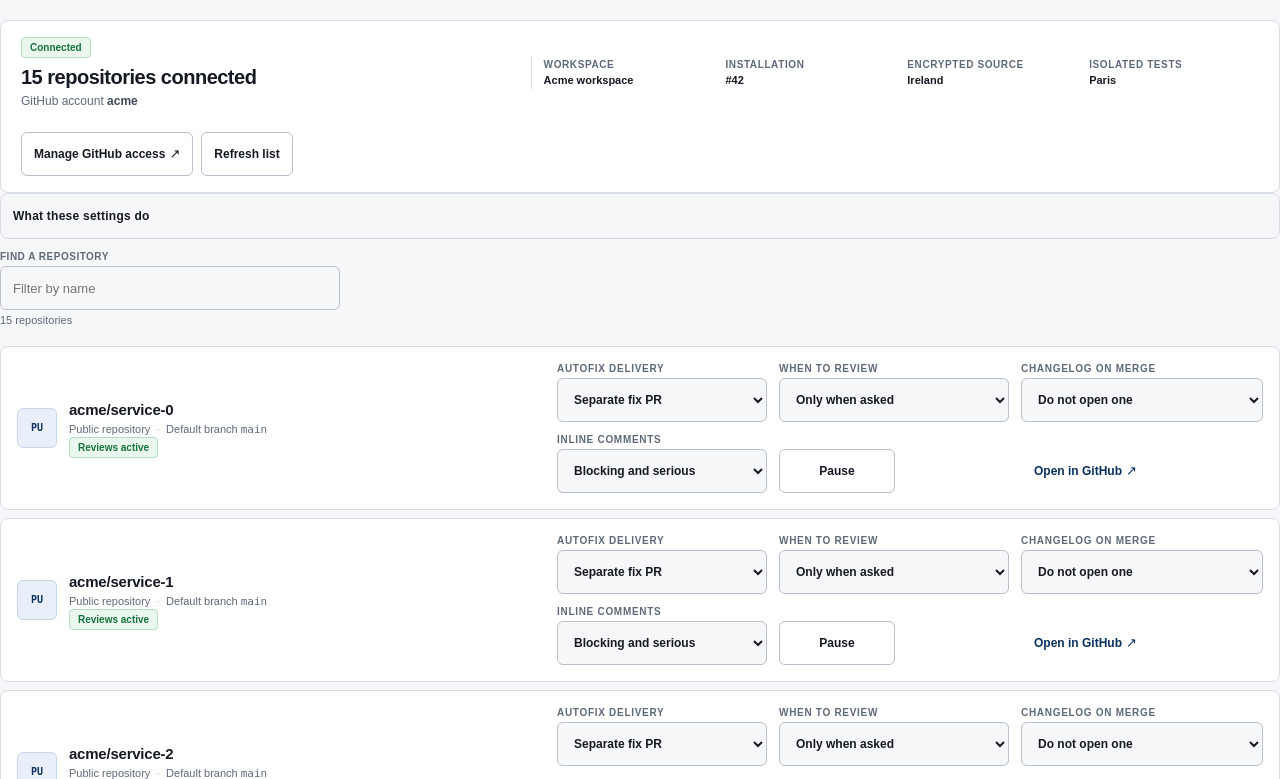
Test: a repository list long enough to be hard to read › says so rather than showing an empty page when nothing matches
In the search field labelled "Find a repository": point(170, 288) [0,266,340,310], type "nothing-here"
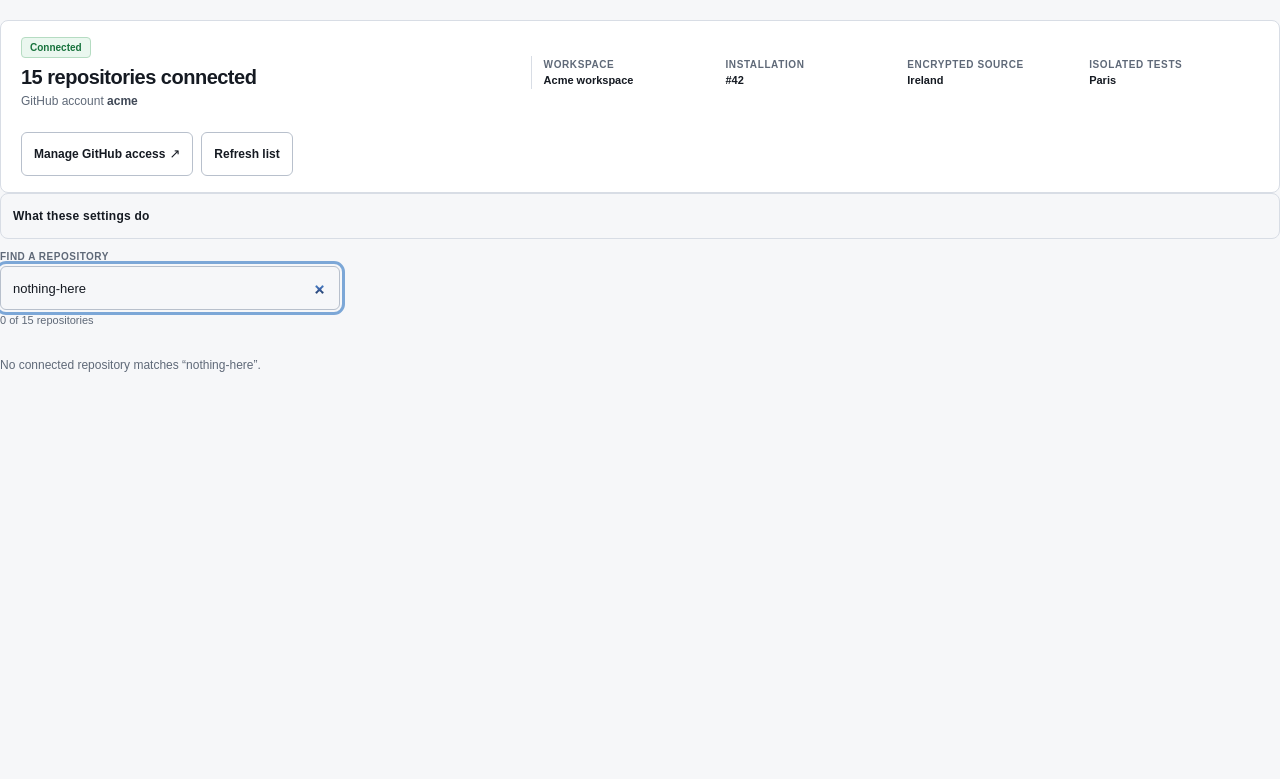
Check: the text "No connected repository matches “nothing-here”." is shown, box [0,358,261,372]
